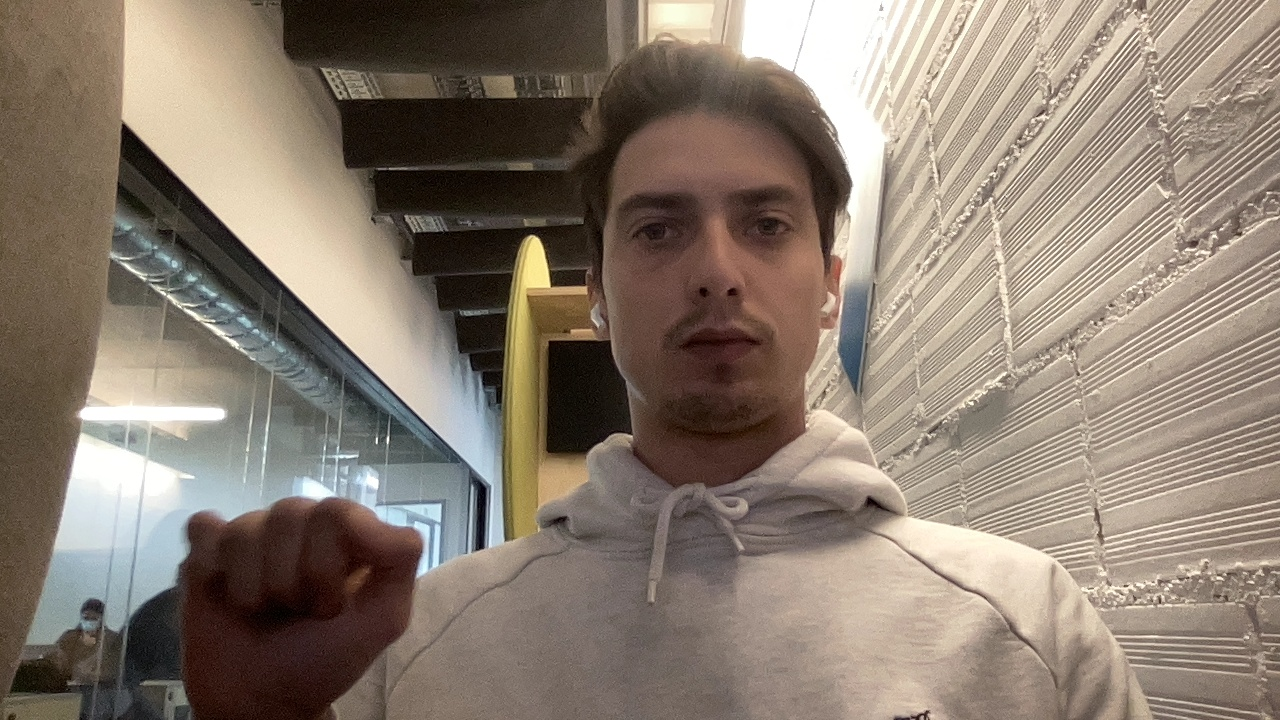yes: (130, 482, 456, 712)
